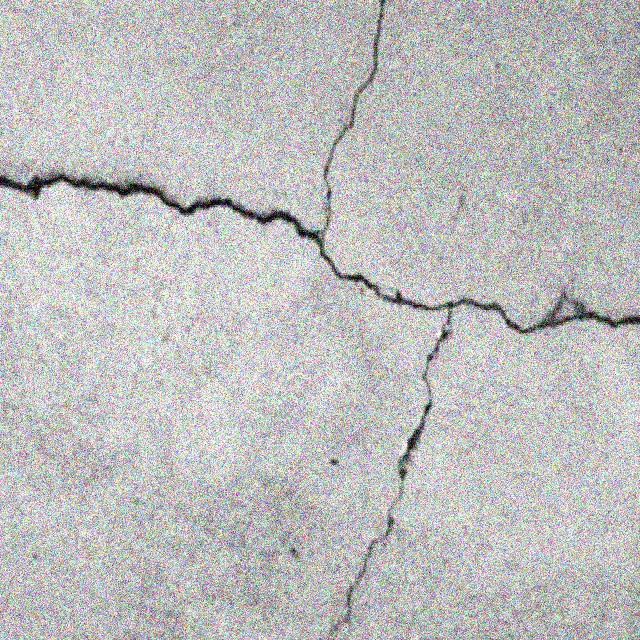SurfaceCrack: (0, 5, 638, 350), (262, 305, 476, 640)
